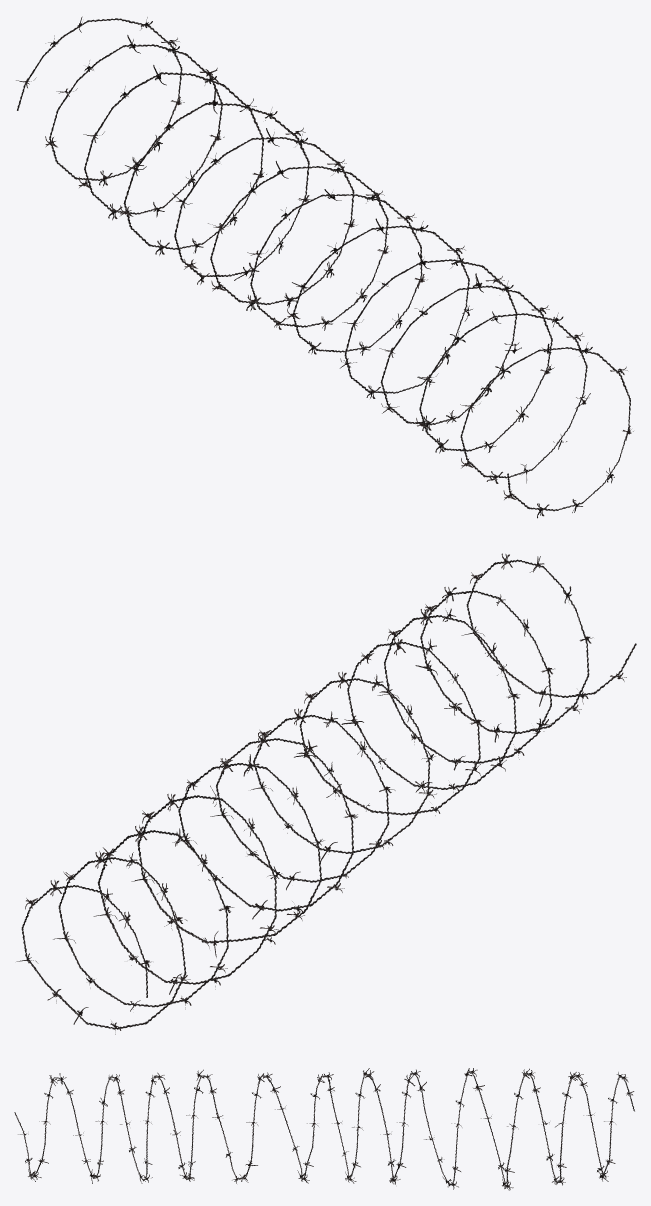
The model's file is barbed_wire_coil.glb.
The picture shows the model from 3 angles, top to bottom: view 1: azimuth 30°, elevation 25°; view 2: azimuth 150°, elevation 25°; view 3: azimuth 270°, elevation 25°; orthographic projection. The views are drawn at different scales.
Parts seen in each view (by area): view 1: barbed_wire_spiral_double; view 2: barbed_wire_spiral_double; view 3: barbed_wire_spiral_double.
Boxes of the visible parts, <box> form: barbed_wire_spiral_double: <box>16,16,633,518</box>; barbed_wire_spiral_double: <box>16,553,636,1034</box>; barbed_wire_spiral_double: <box>14,1068,634,1190</box>.
Bounding box in the file's own units: 0.8958 × 0.9183 × 4.26.
Materials: 1 (1 with a texture image).
